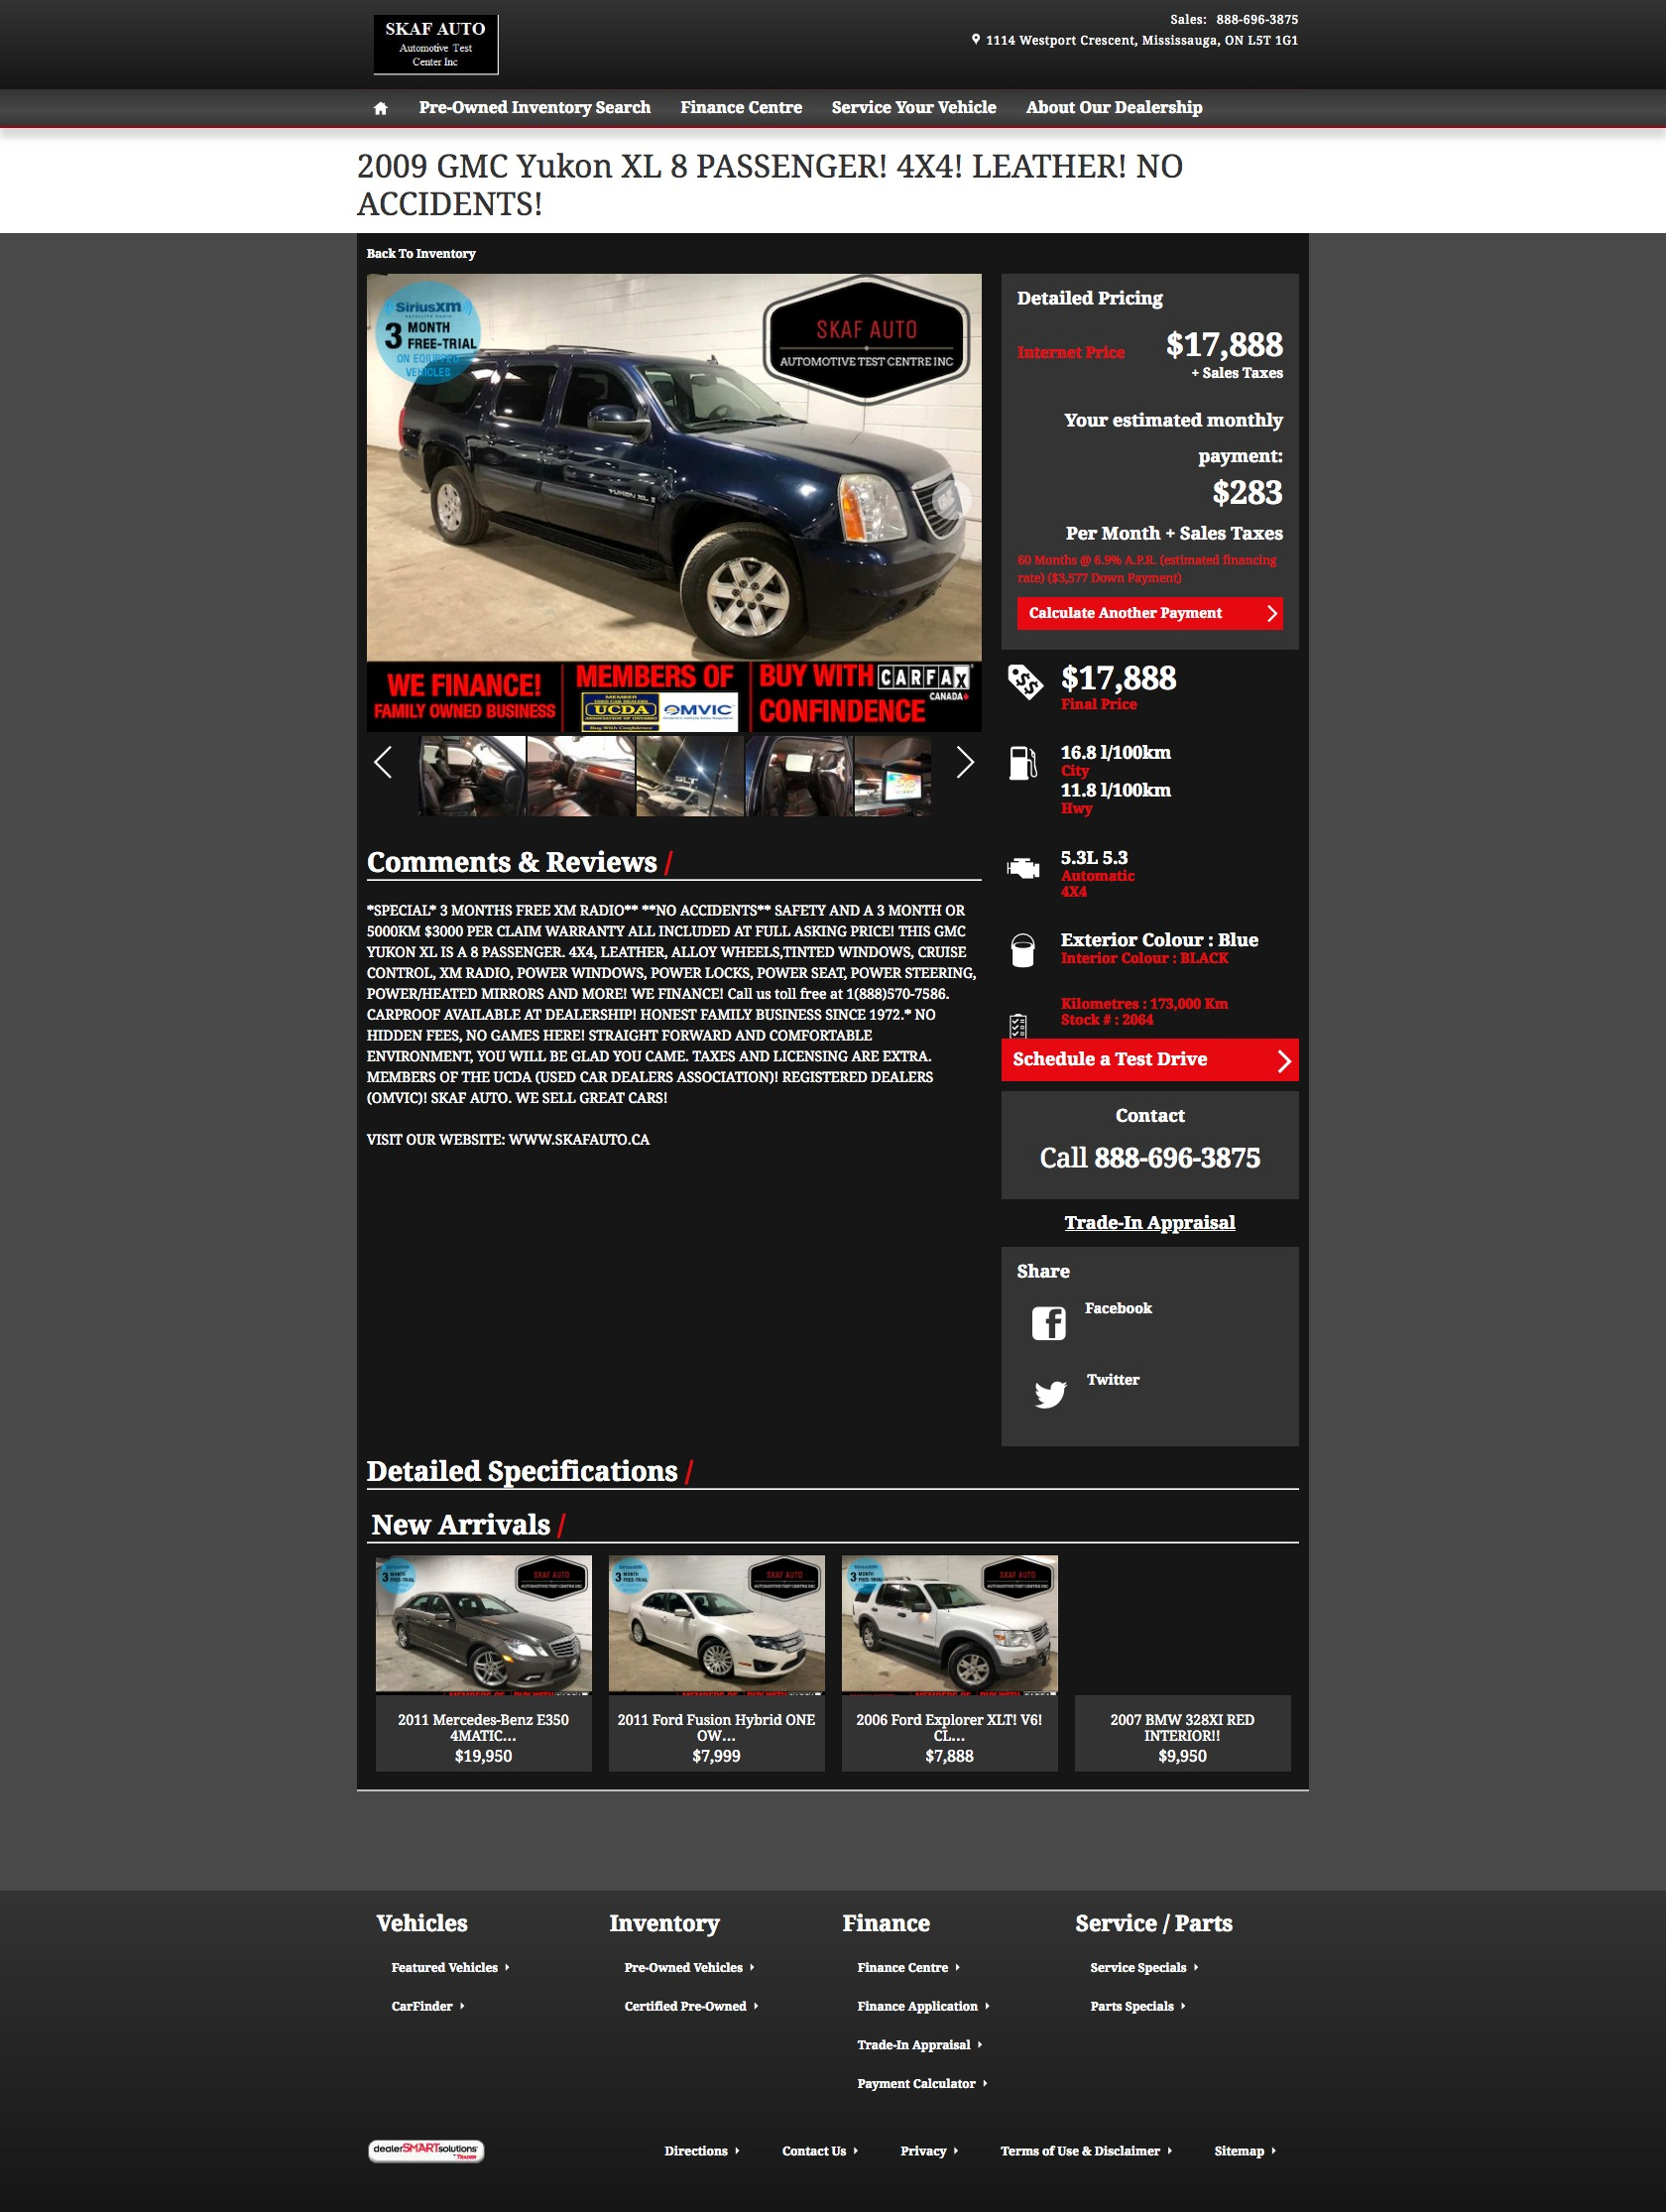car: (957, 745, 976, 780)
